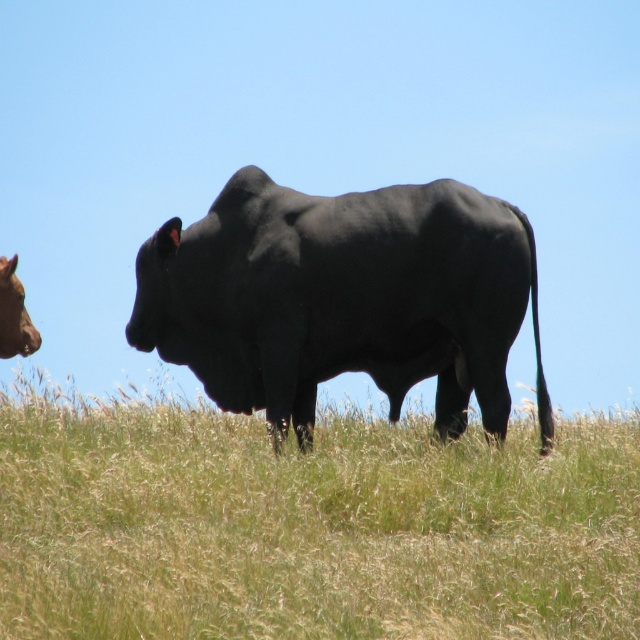Bull: (125, 164, 555, 470), (0, 253, 42, 359)
